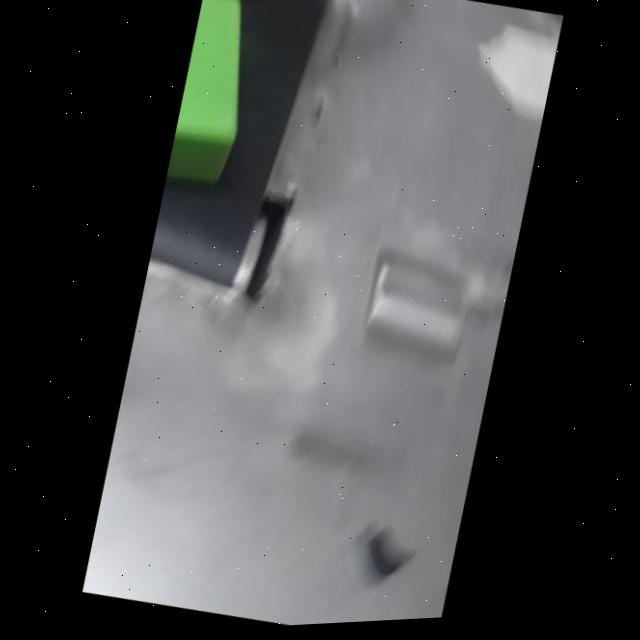greenBox: (162, 0, 291, 209)
yellowBox: (204, 0, 337, 16)
